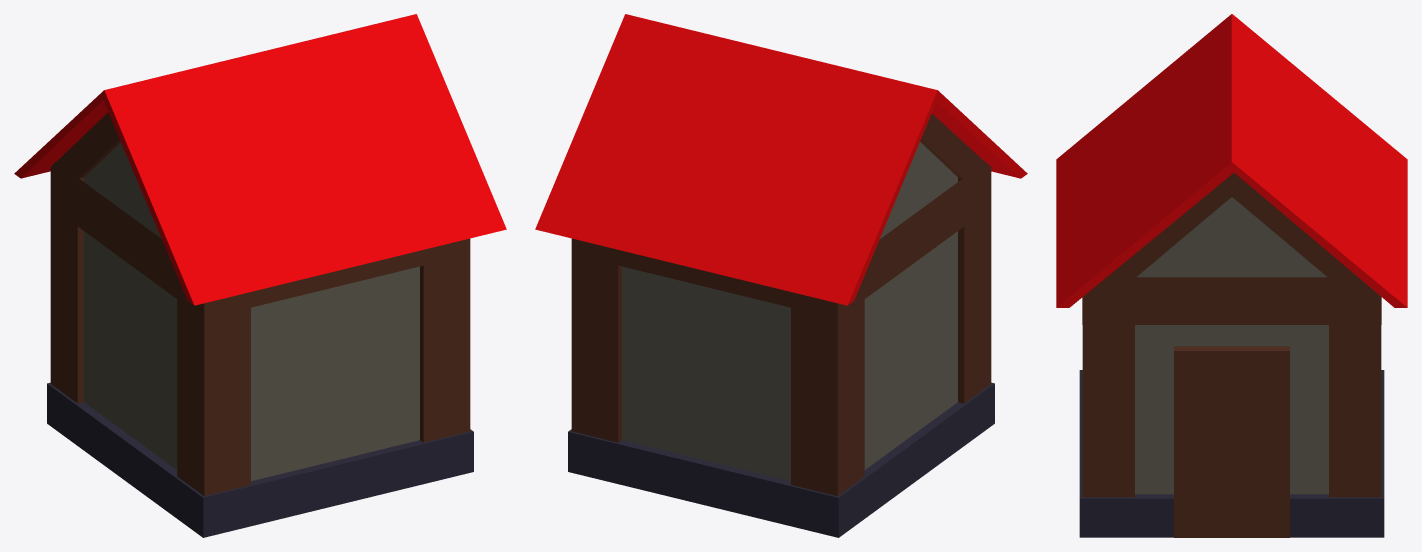
Rendered from maison.fbx.
The picture shows the model from 3 angles, left to right: view 1: azimuth 30°, elevation 25°; view 2: azimuth 150°, elevation 25°; view 3: azimuth 270°, elevation 25°; orthographic projection. The views are drawn at different scales.
Visible parts, largest first — view 1: Cube.003, Cube, Cube.001, Cube.002; view 2: Cube.003, Cube, Cube.001, Cube.002; view 3: Cube.003, Cube.001, Cube, Cube.004, Cube.002.
Part boxes in pixels (box(x1,y1,x2,y2)): Cube.003: box(14, 14, 506, 305); Cube: box(84, 142, 419, 481); Cube.001: box(50, 112, 470, 496); Cube.002: box(47, 382, 473, 537); Cube.003: box(535, 14, 1027, 305); Cube: box(622, 142, 957, 481); Cube.001: box(571, 113, 991, 496); Cube.002: box(568, 382, 994, 537); Cube.003: box(1056, 14, 1407, 307); Cube.001: box(1082, 172, 1381, 497); Cube: box(1135, 197, 1328, 494); Cube.004: box(1174, 346, 1289, 537); Cube.002: box(1079, 370, 1384, 537).
Size of the model in its own units: 247 by 298 by 247.
